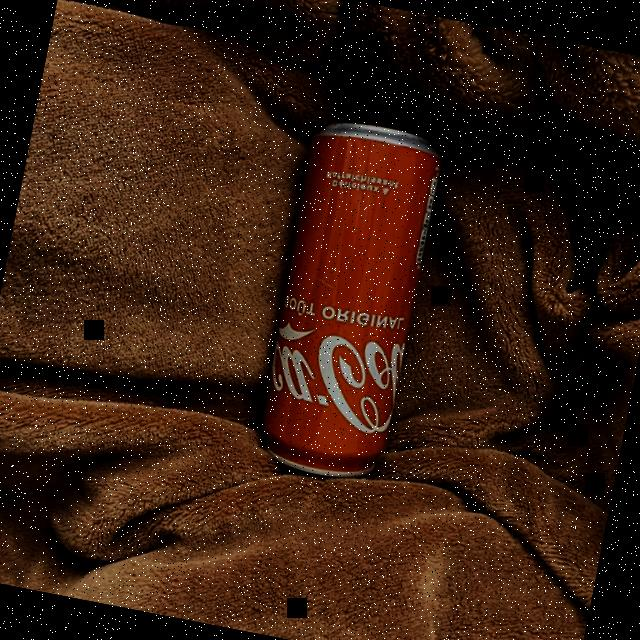can: (239, 106, 450, 503)
